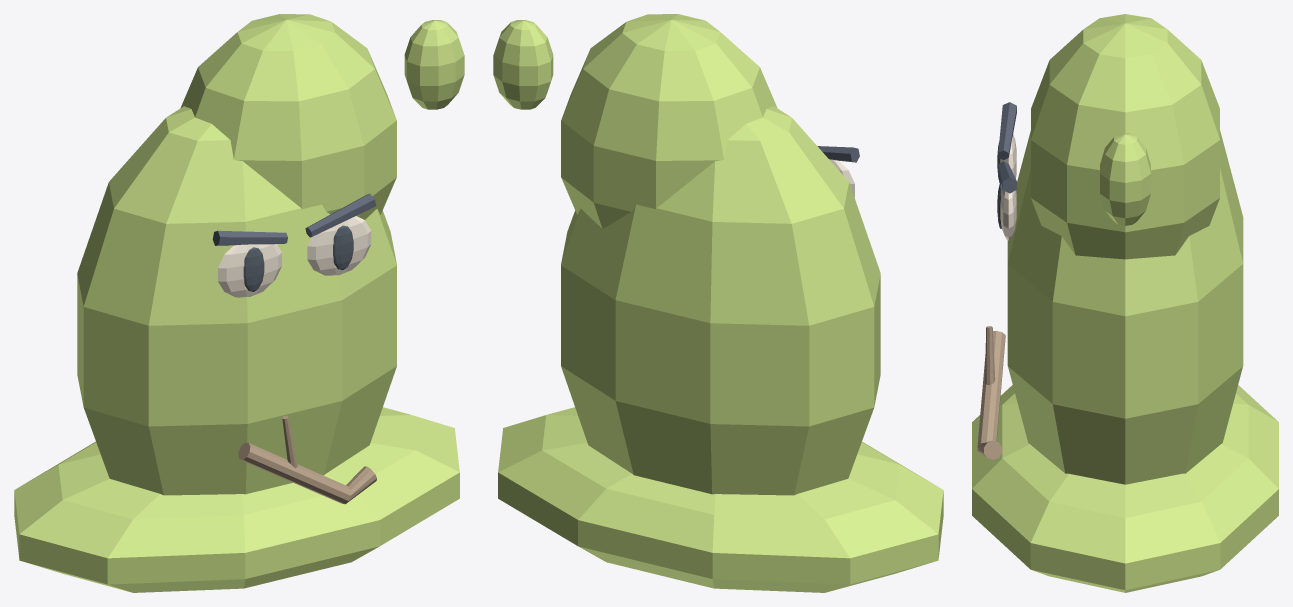
The model's file is slime.glb.
3 renders of one model, left to right at view 1: azimuth 30°, elevation 25°; view 2: azimuth 150°, elevation 25°; view 3: azimuth 270°, elevation 25°, orthographic.
Visible parts, largest first — view 1: slime_body, slime_base, slime_peak, floating_drop, twig, eye_-1, eye_1, brow_-1, brow_1, pupil_-1, pupil_1; view 2: slime_body, slime_base, slime_peak, floating_drop; view 3: slime_body, slime_base, slime_peak, floating_drop, twig, brow_-1, eye_1, twig_branch, brow_1.
Boxes of the visible parts, x1,y1,x2,y2 form: slime_body: [77, 106, 396, 495]; slime_base: [14, 407, 459, 592]; slime_peak: [180, 14, 396, 219]; floating_drop: [404, 20, 464, 109]; twig: [238, 442, 376, 504]; eye_-1: [218, 244, 281, 297]; eye_1: [307, 216, 371, 275]; brow_-1: [212, 230, 287, 245]; brow_1: [305, 193, 375, 237]; pupil_-1: [243, 247, 264, 291]; pupil_1: [333, 225, 353, 269]; slime_body: [561, 106, 880, 495]; slime_base: [498, 407, 943, 592]; slime_peak: [561, 14, 777, 228]; floating_drop: [493, 20, 553, 109]; slime_body: [1007, 130, 1243, 484]; slime_base: [972, 385, 1278, 592]; slime_peak: [1031, 14, 1219, 259]; floating_drop: [1100, 132, 1150, 225]; twig: [977, 330, 1005, 459]; brow_-1: [998, 102, 1016, 159]; eye_1: [1000, 188, 1016, 240]; twig_branch: [985, 326, 995, 384]; brow_1: [998, 161, 1016, 193].
Bounding box in the file's own units: 1.15 × 1.3 × 0.6823.
